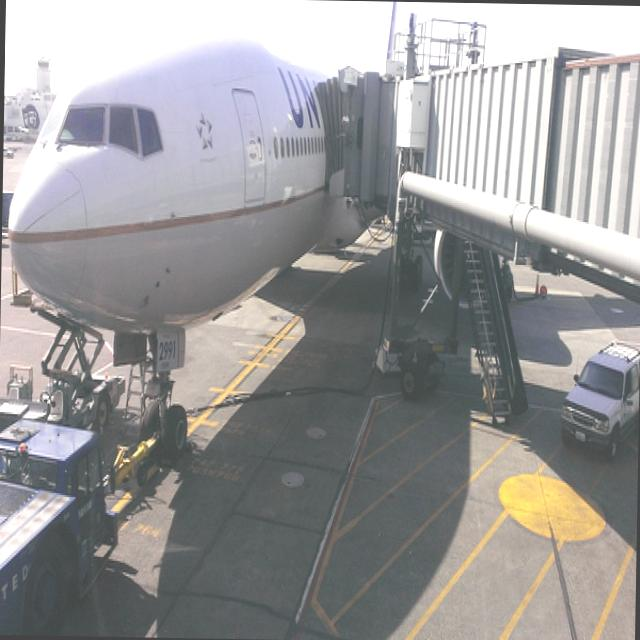Vehicle: (0, 410, 126, 631), (558, 336, 640, 463)
